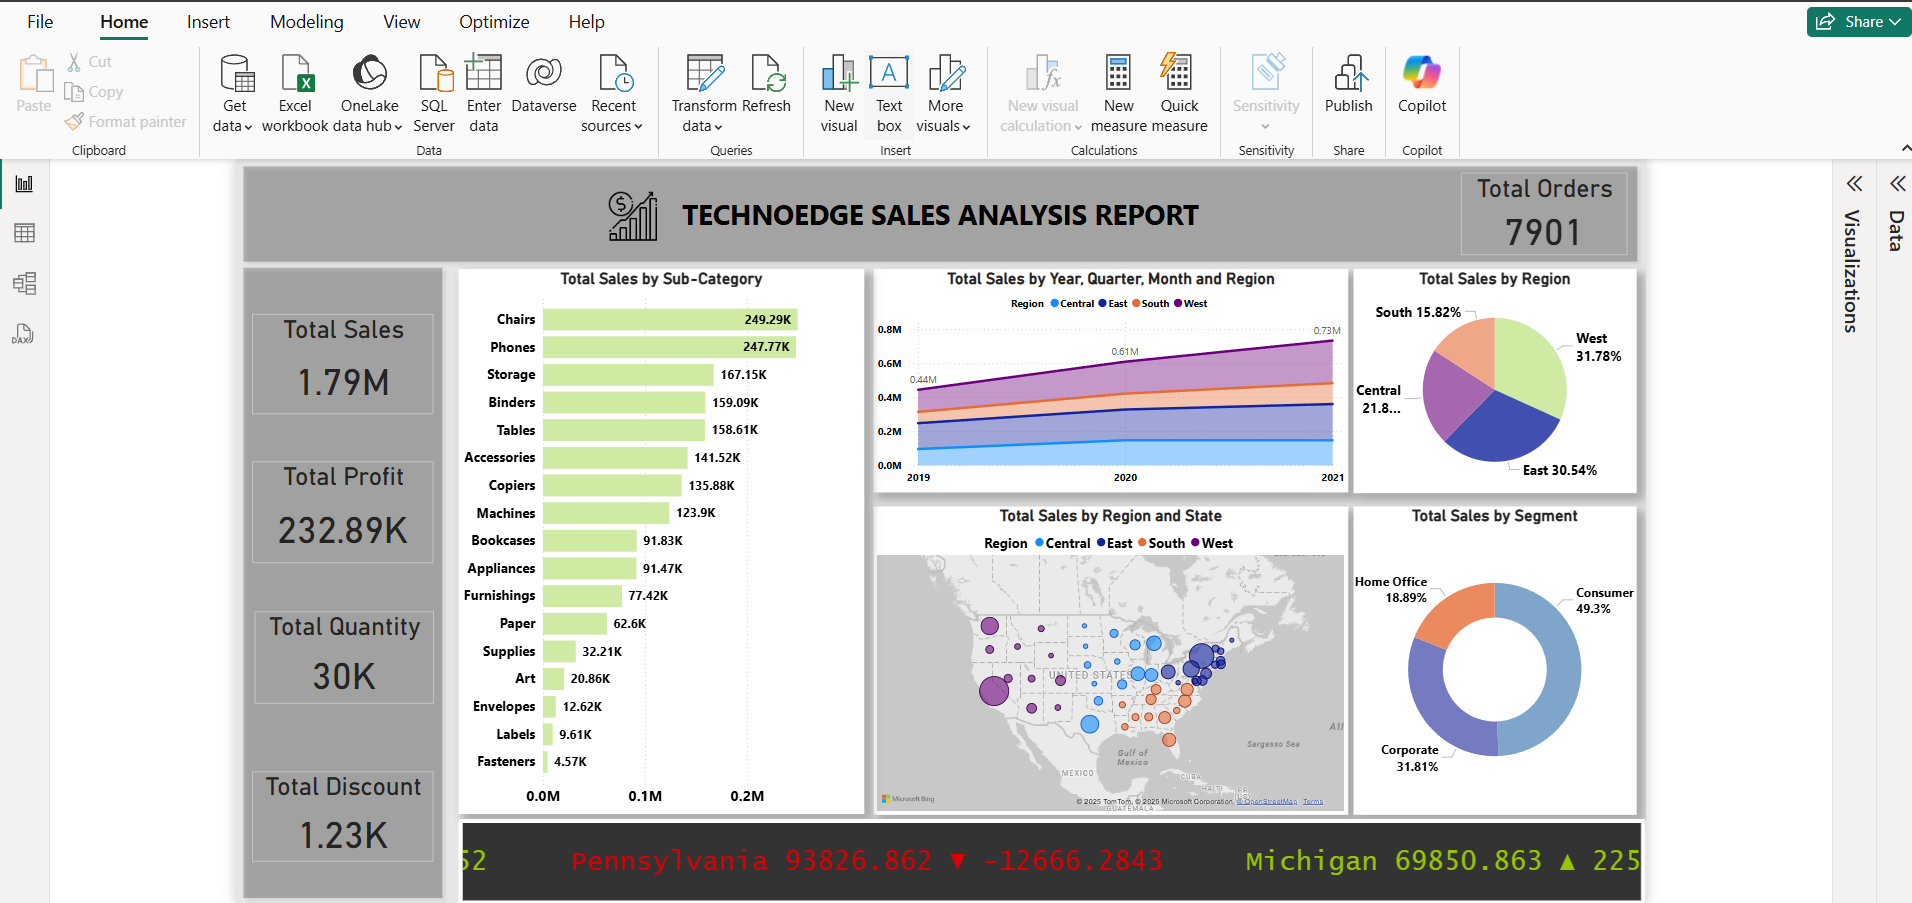

The page's visual inventory and layout, read from the dashboard file:
{"tool":"powerbi","page":{"name":"Page 1","canvas":[1700,900],"ordinal":0},"visuals":[{"type":"shape","title":"TECHNOEDGE SALES ANALYSIS ","box":[0,0,1699.6,132.7],"z":0},{"type":"shape","box":[0,122.2,257.9,778.2],"z":1000},{"type":"card","title":"Total Sales","fields":{"Values":["Sum(Monthly Sales combined data.Sales)"]},"box":[19.6,187,218.7,120.6],"z":2000},{"type":"card","title":"Total Profit","fields":{"Values":["Sum(Monthly Sales combined data.Profit)"]},"box":[19.6,364.9,218.7,122.2],"z":3000},{"type":"card","title":"Total  Quantity","fields":{"Values":["Sum(Monthly Sales combined data.Quantity)"]},"box":[22.6,545.9,215.7,111.6],"z":4000},{"type":"card","title":"Total Discount","fields":{"Values":["Sum(Monthly Sales combined data.Discount)"]},"box":[19.6,738.9,218.7,108.6],"z":5000},{"type":"stackedAreaChart","title":"Total Sales by Year, Quarter, Month and Region","fields":{"Y":["Sum(Monthly Sales combined data.Sales)"],"Series":["Monthly Sales combined data.Region"],"Category":["Monthly Sales combined data.Order Date.Variation.Date Hierarchy.Year","Monthly Sales combined data.Order Date.Variation.Date Hierarchy.Quarter","Monthly Sales combined data.Order Date.Variation.Date Hierarchy.Month","Monthly Sales combined data.Order Date.Variation.Date Hierarchy.Day"]},"box":[769.1,132.7,573.1,269.9],"z":6000},{"type":"map","title":"Total Sales by Region and State","fields":{"Category":["Monthly Sales combined data.State"],"Size":["Sum(Monthly Sales combined data.Sales)"],"Series":["Monthly Sales combined data.Region"]},"box":[769.1,418.5,572.9,372.2],"z":7000},{"type":"clusteredBarChart","title":"Total Sales by Sub-Category","fields":{"Category":["Monthly Sales combined data.Sub-Category"],"Y":["Sum(Monthly Sales combined data.Sales)"]},"box":[268.7,132.8,489.6,657.9],"z":8000},{"type":"pieChart","title":"Total Sales by Region","fields":{"Category":["Monthly Sales combined data.Region"],"Y":["Sum(Monthly Sales combined data.Sales)"]},"box":[1348.2,132.8,341.3,270.3],"z":9000},{"type":"donutChart","title":"Total Sales by Segment","fields":{"Category":["Monthly Sales combined data.Segment"],"Y":["Sum(Monthly Sales combined data.Sales)"]},"box":[1348.2,418.5,341.3,372.2],"z":10000},{"type":"ScrollingTextVisual1448795304508","fields":{"Category":["Monthly Sales combined data.State"],"Measure Absolute":["Sum(Monthly Sales combined data.Sales)"],"Measure Deviation":["Sum(Monthly Sales combined data.Profit)"]},"box":[268.7,796.9,1431.6,103.5],"z":11000},{"type":"card","title":"Total Orders","fields":{"Values":["CountNonNull(Monthly Sales combined data.Order ID)"]},"box":[1477.9,16.6,200.6,99.5],"z":12000},{"type":"image","box":[444.9,34.7,69.4,69.4],"z":13000}]}

Visuals, with their boxes on the page's 1700x900 design canvas (x1, y1, x2, y2). These are canvas units, not pixel positions in the 1912x903 screenshot, which may show the page scaled, cropped or inside an application window:
"TECHNOEDGE SALES ANALYSIS " shape: <bbox>0, 0, 1700, 133</bbox>
shape: <bbox>0, 122, 258, 900</bbox>
"Total Sales" card: <bbox>20, 187, 238, 308</bbox>
"Total Profit" card: <bbox>20, 365, 238, 487</bbox>
"Total  Quantity" card: <bbox>23, 546, 238, 658</bbox>
"Total Discount" card: <bbox>20, 739, 238, 848</bbox>
"Total Sales by Year, Quarter, Month and Region" stackedAreaChart: <bbox>769, 133, 1342, 403</bbox>
"Total Sales by Region and State" map: <bbox>769, 418, 1342, 791</bbox>
"Total Sales by Sub-Category" clusteredBarChart: <bbox>269, 133, 758, 791</bbox>
"Total Sales by Region" pieChart: <bbox>1348, 133, 1690, 403</bbox>
"Total Sales by Segment" donutChart: <bbox>1348, 418, 1690, 791</bbox>
ScrollingTextVisual1448795304508 - Monthly Sales combined data.State x Sum(Monthly Sales combined data.Sales): <bbox>269, 797, 1700, 900</bbox>
"Total Orders" card: <bbox>1478, 17, 1678, 116</bbox>
image: <bbox>445, 35, 514, 104</bbox>
